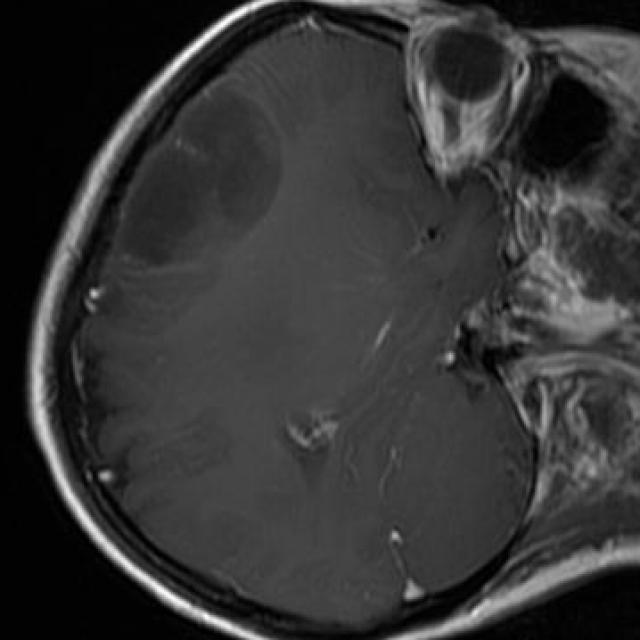glioma: (119, 91, 283, 269)
